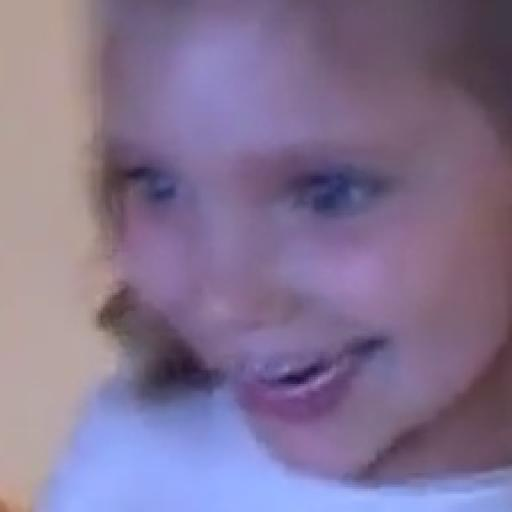Autism: (75, 1, 512, 480)
